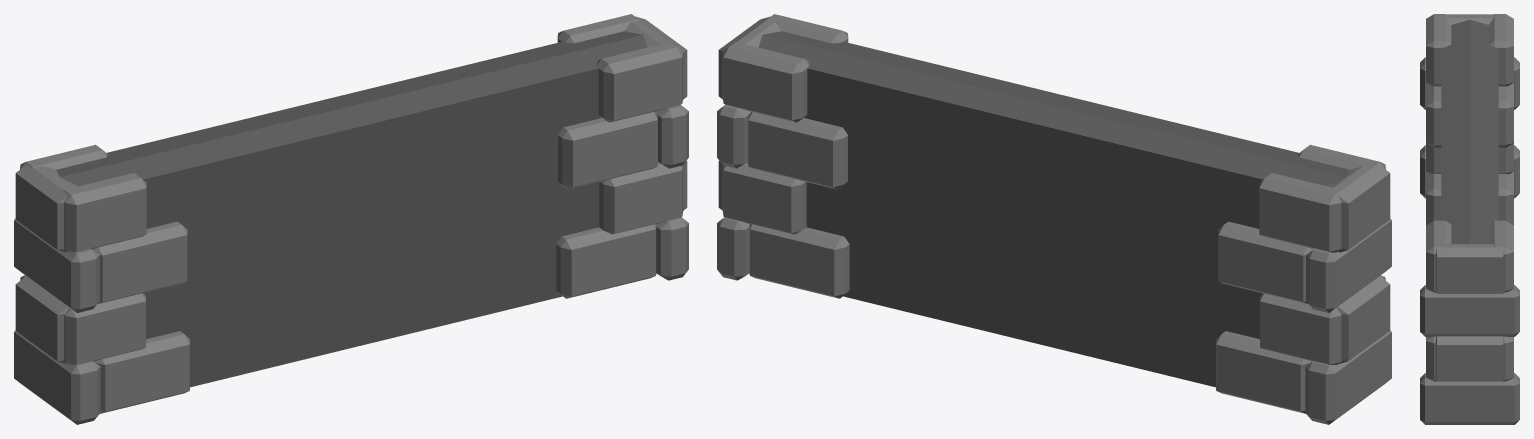
Rendered from DungeonWallLow.fbx.
The picture shows the model from 3 angles, left to right: view 1: azimuth 30°, elevation 25°; view 2: azimuth 150°, elevation 25°; view 3: azimuth 270°, elevation 25°; orthographic projection. The views are drawn at different scales.
Parts seen in each view (by area): view 1: DungeonWallLow; view 2: DungeonWallLow; view 3: DungeonWallLow.
Part boxes in pixels (x1,y1,x2,y2): DungeonWallLow: (14,14,688,424); DungeonWallLow: (717,14,1391,424); DungeonWallLow: (1420,14,1519,424).
Bounding box in the file's own units: 520 × 178 × 90.43.
1 material, 1 textured.
